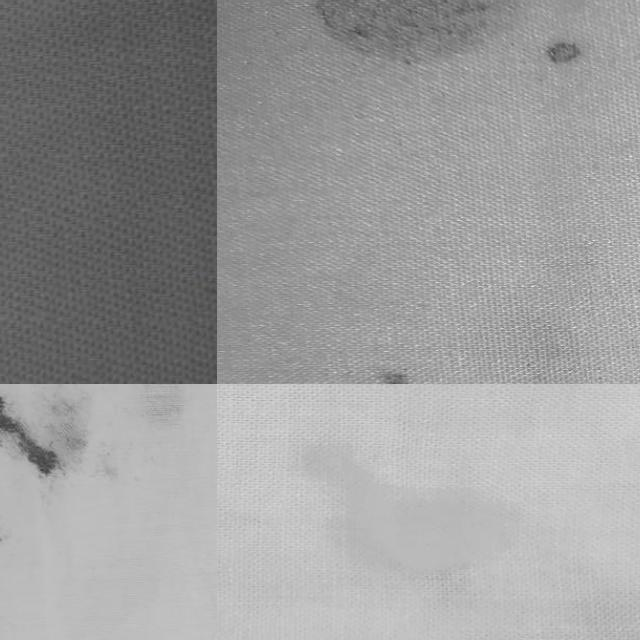Thread_other: (283, 0, 601, 105), (0, 384, 121, 531), (124, 384, 212, 478), (341, 365, 464, 384)
